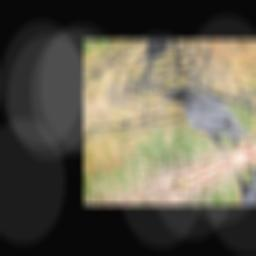Crow: (157, 70, 256, 169)
